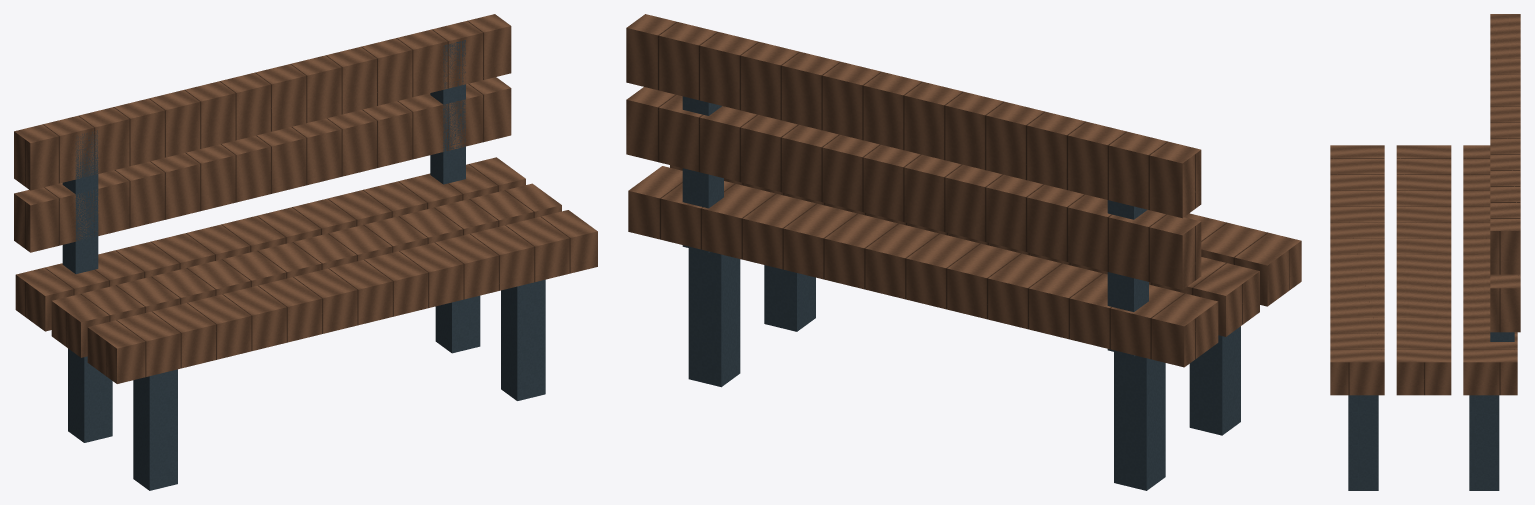
Rendered from bench.glb.
3 renders of one model, left to right at view 1: azimuth 30°, elevation 25°; view 2: azimuth 150°, elevation 25°; view 3: azimuth 270°, elevation 25°, orthographic. The views are drawn at different scales.
Parts seen in each view (by area): view 1: seat, back_slat.001, back_slat, seat.001, seat.002, leg.002, leg, back_support, leg.001, back_support.001, leg.003; view 2: back_slat.001, seat.002, back_slat, leg.003, leg.001, seat, seat.001, leg, leg.002, back_support, back_support.001; view 3: seat.001, seat, seat.002, back_slat.001, leg.002, leg.003, back_slat, back_support.001.
Part boxes in pixels (box(x1,y1,x2,y2)): seat: box(87, 210, 597, 383); back_slat.001: box(14, 14, 511, 190); back_slat: box(14, 77, 511, 252); seat.001: box(51, 183, 561, 357); seat.002: box(15, 157, 525, 331); leg.002: box(501, 279, 545, 400); leg: box(133, 369, 177, 490); back_support: box(62, 130, 98, 273); leg.001: box(68, 348, 112, 442); back_support.001: box(430, 40, 465, 184); leg.003: box(435, 295, 480, 353); back_slat.001: box(626, 14, 1201, 218); seat.002: box(628, 166, 1218, 367); back_slat: box(626, 87, 1201, 289); leg.003: box(688, 248, 740, 387); leg.001: box(1114, 352, 1165, 490); seat: box(1184, 213, 1301, 306); seat.001: box(670, 165, 1259, 336); leg: box(1189, 326, 1240, 435); leg.002: box(764, 265, 815, 331); back_support: box(1107, 200, 1148, 356); back_support.001: box(682, 96, 723, 252); seat.001: box(1396, 145, 1451, 395); seat: box(1330, 145, 1384, 395); seat.002: box(1463, 145, 1517, 395); back_slat.001: box(1490, 14, 1520, 274); leg.002: box(1348, 395, 1378, 490); leg.003: box(1469, 395, 1499, 490); back_slat: box(1490, 274, 1520, 332); back_support.001: box(1490, 332, 1514, 341).
Size of the model in its own units: 1.7 by 1.02 by 0.63.
2 materials, 2 textured.
